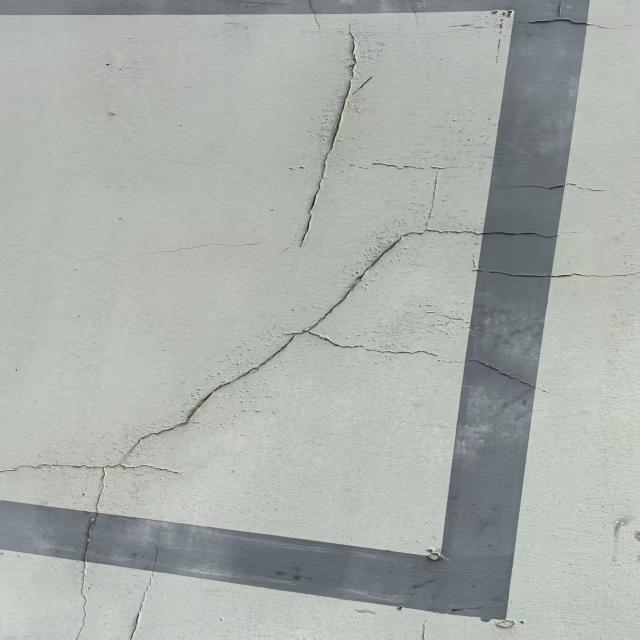crack: (7, 173, 596, 637), (292, 17, 367, 252), (120, 540, 168, 637), (461, 263, 638, 281)
